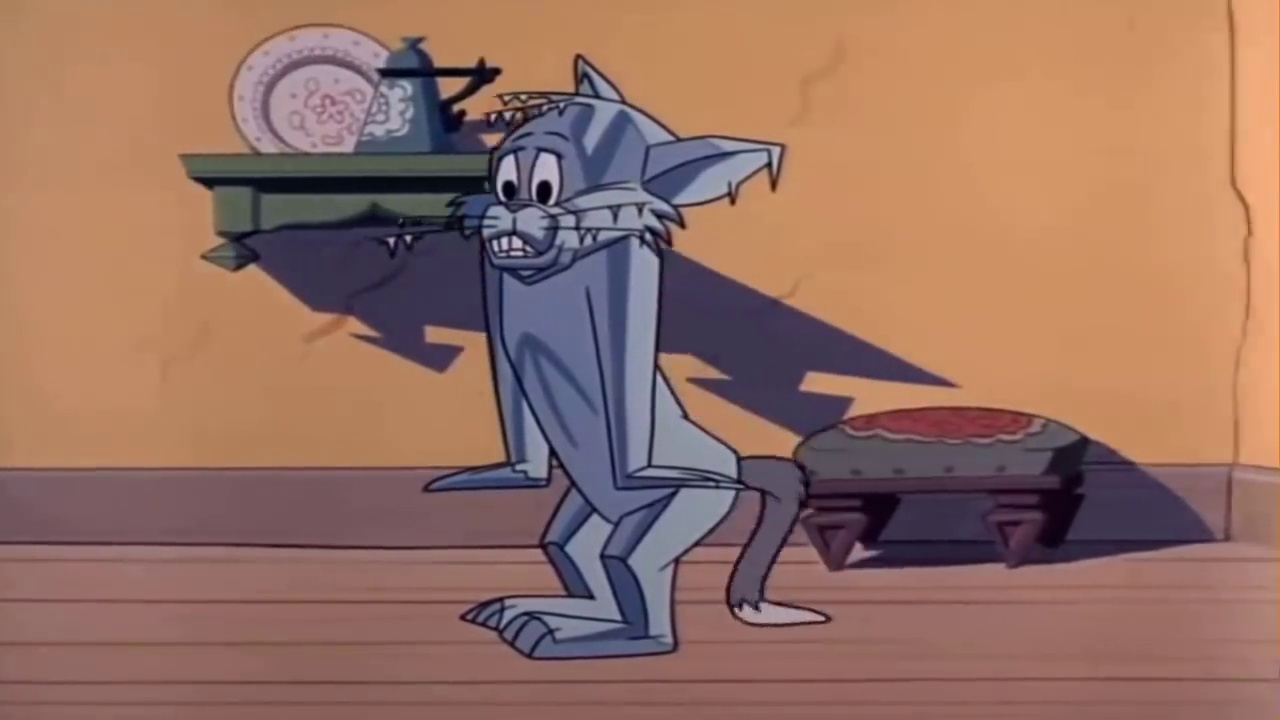face: (477, 128, 590, 278)
